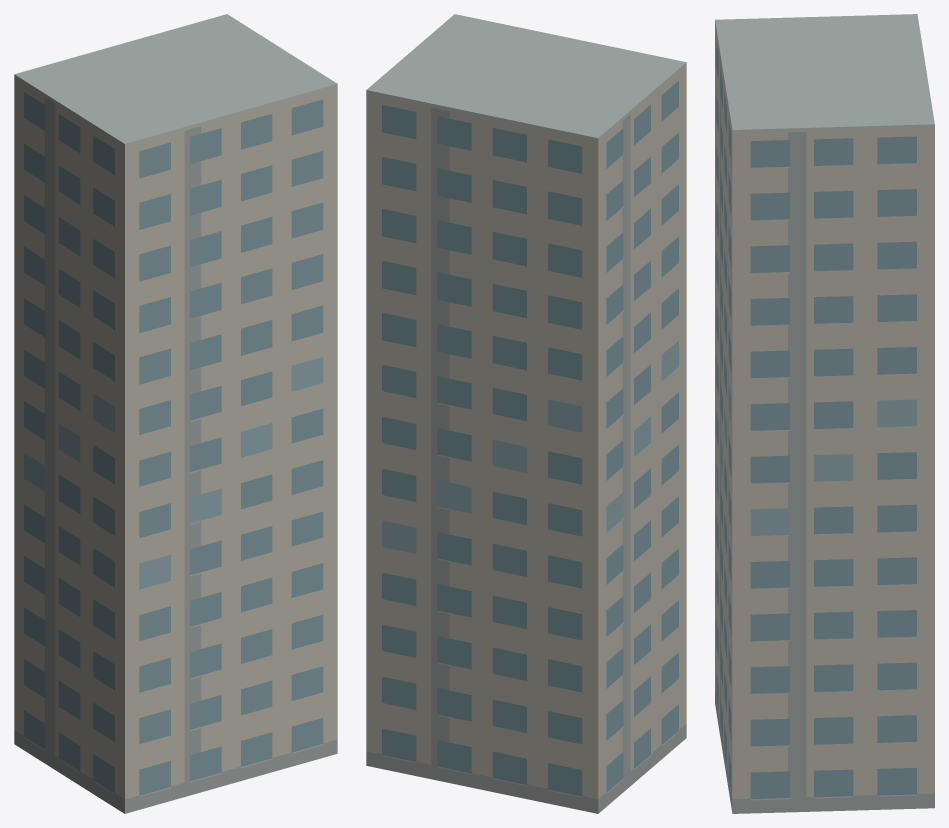
Rendered from residential-30f45dc9-6b70-424c-a4f5-3dd993d15cb9.glb.
3 renders of one model, left to right at view 1: azimuth 30°, elevation 25°; view 2: azimuth 150°, elevation 25°; view 3: azimuth 270°, elevation 25°, orthographic. The views are drawn at different scales.
Visible parts, largest first — view 1: residential-30f45dc9-6b70-424c-a4f5-3dd993d15cb9.tmp; view 2: residential-30f45dc9-6b70-424c-a4f5-3dd993d15cb9.tmp; view 3: residential-30f45dc9-6b70-424c-a4f5-3dd993d15cb9.tmp.
Part boxes in pixels (x1,y1,x2,y2): residential-30f45dc9-6b70-424c-a4f5-3dd993d15cb9.tmp: (14,14,337,813); residential-30f45dc9-6b70-424c-a4f5-3dd993d15cb9.tmp: (366,14,686,813); residential-30f45dc9-6b70-424c-a4f5-3dd993d15cb9.tmp: (715,14,934,813).
Size of the model in its own units: 16.01 by 44 by 12.82.
